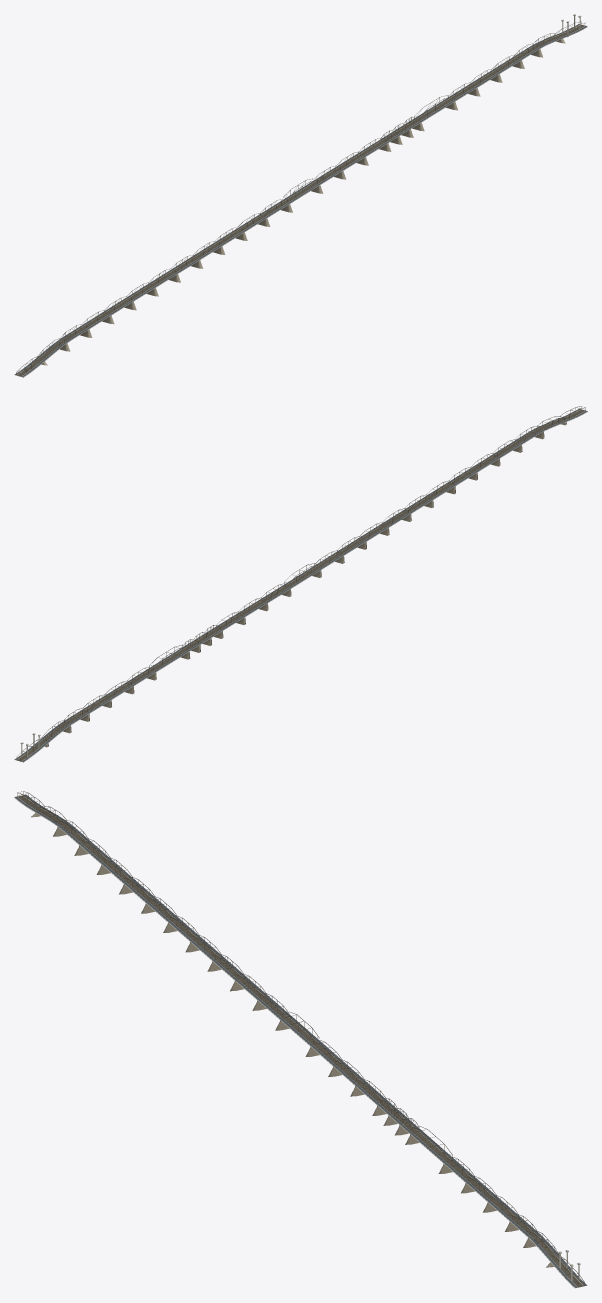
The model's file is pont-victoria-far.glb.
3 views of the same model, one above another, from view 1: azimuth 30°, elevation 25°; view 2: azimuth 210°, elevation 25°; view 3: azimuth 270°, elevation 25° (orthographic). The views are drawn at different scales.
Visible parts, largest first — view 1: pont-victoria-0-iron, pont-victoria-0-asphalt, pont-victoria-0-concrete, pont-victoria-0-stone; view 2: pont-victoria-0-iron, pont-victoria-0-asphalt, pont-victoria-0-concrete, pont-victoria-0-stone; view 3: pont-victoria-0-iron, pont-victoria-0-asphalt, pont-victoria-0-concrete, pont-victoria-0-stone.
Part boxes in pixels (bbox=[...]): pont-victoria-0-iron: bbox=[16, 21, 585, 376]; pont-victoria-0-asphalt: bbox=[14, 24, 586, 377]; pont-victoria-0-concrete: bbox=[14, 14, 587, 377]; pont-victoria-0-stone: bbox=[41, 38, 565, 365]; pont-victoria-0-iron: bbox=[16, 406, 585, 761]; pont-victoria-0-asphalt: bbox=[14, 408, 587, 761]; pont-victoria-0-concrete: bbox=[16, 409, 587, 762]; pont-victoria-0-stone: bbox=[44, 422, 566, 747]; pont-victoria-0-iron: bbox=[17, 791, 584, 1287]; pont-victoria-0-asphalt: bbox=[15, 794, 586, 1287]; pont-victoria-0-concrete: bbox=[14, 795, 587, 1288]; pont-victoria-0-stone: bbox=[31, 813, 554, 1267].
Bounding box in the file's own units: 1814 × 35.01 × 891.
